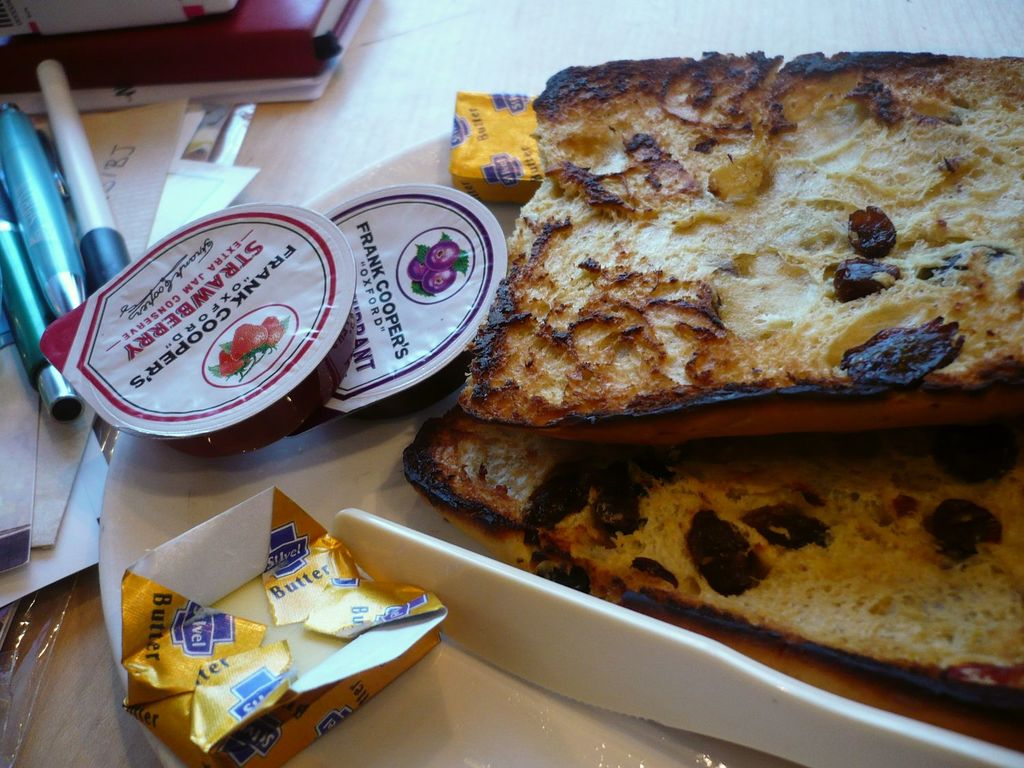Pizza: (457, 48, 1023, 411), (404, 401, 1023, 702)
